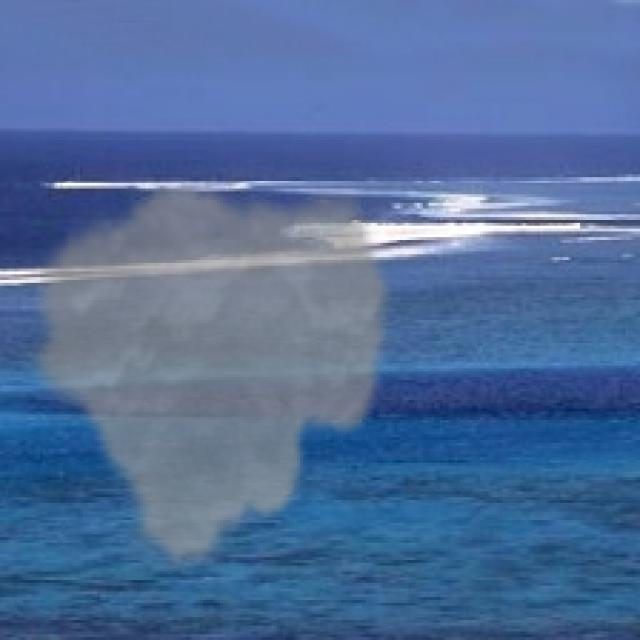smoke: (23, 177, 397, 577)
